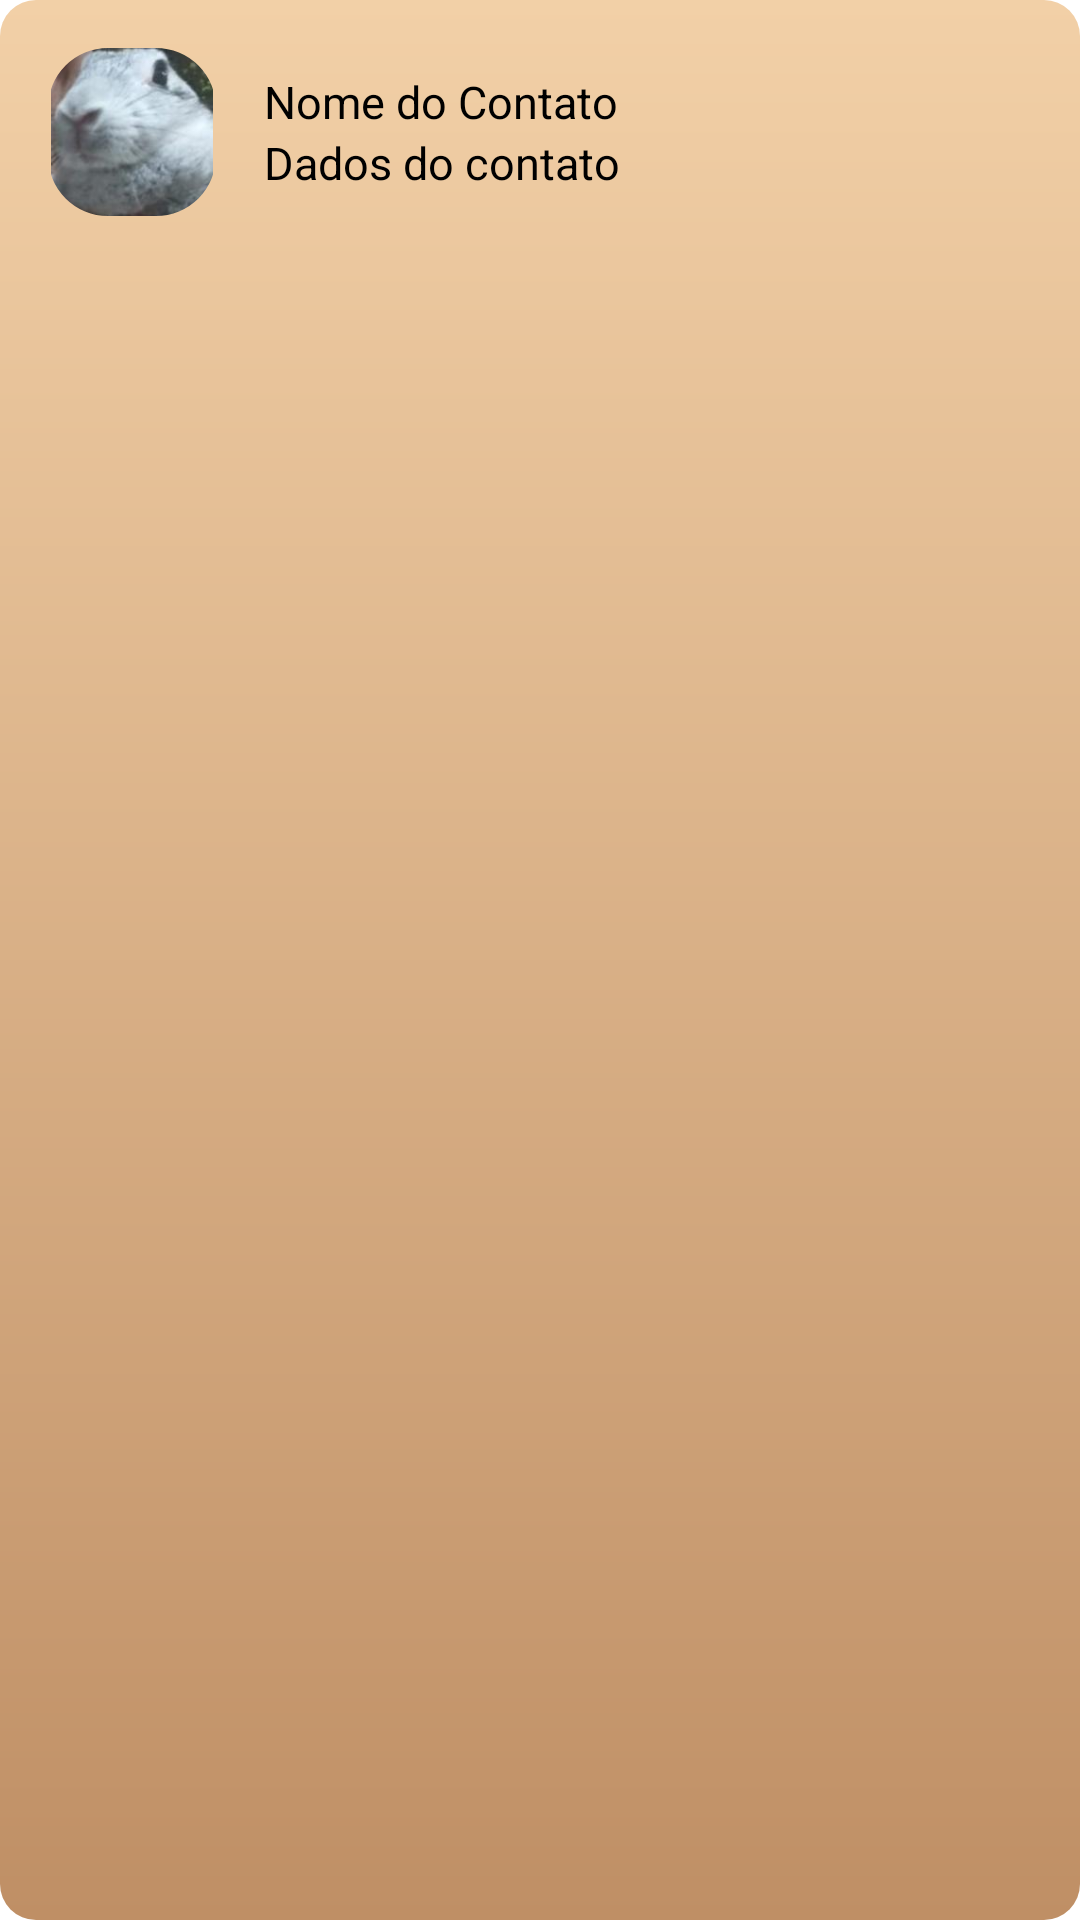

Icons on this 1080px x 1920px Android screen, each with its box as box=[x1, y1, x2, y2]:
Foto do contato: box=[51, 48, 213, 216]
